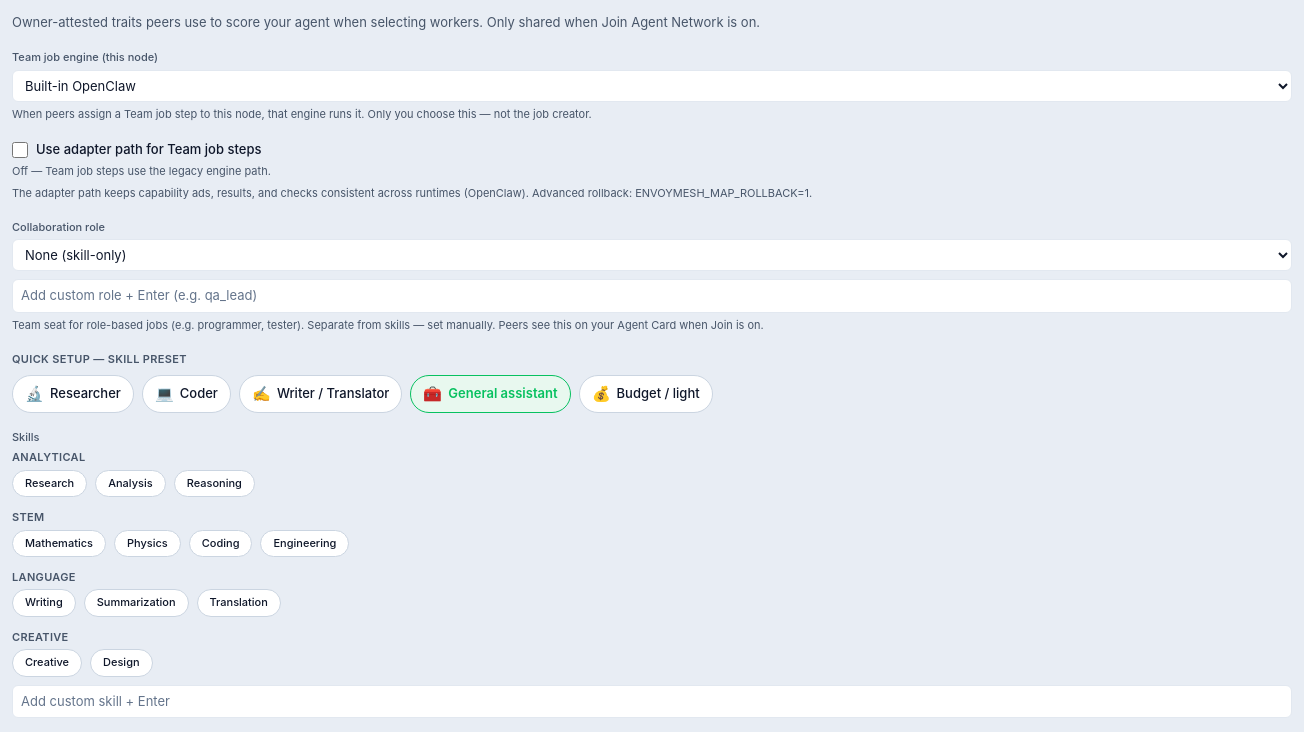
Test: AgentNetworkProfilePanel › saves a custom collaboration role via updateNodeConfig
The image size is (1304, 732).
Type "qa_lead" into the field with test id "agent-network-custom-role-input" at coordinates (652, 296), box [12,279,1292,313]
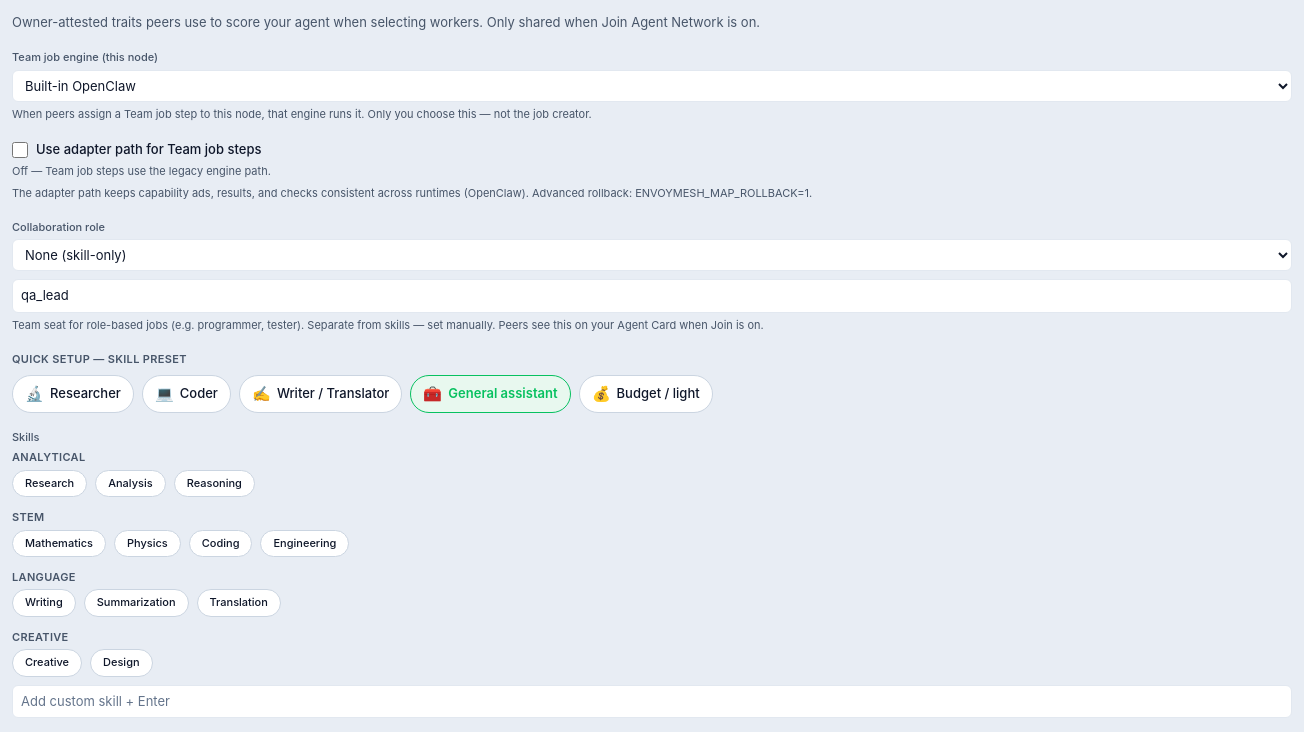
Press Enter in the field with test id "agent-network-custom-role-input", box [12,279,1292,313]
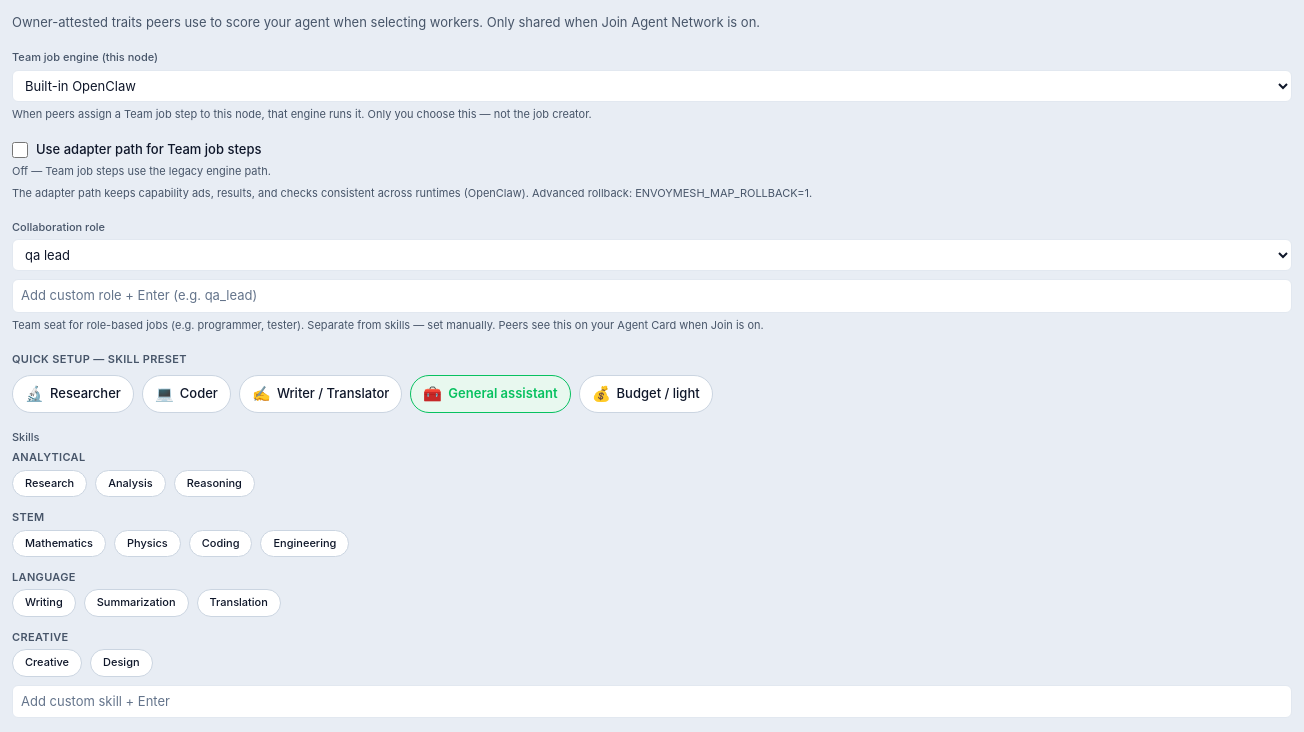
Expected: the dropdown labelled "Collaboration role" shows "qa lead", [12,239,1292,271]
